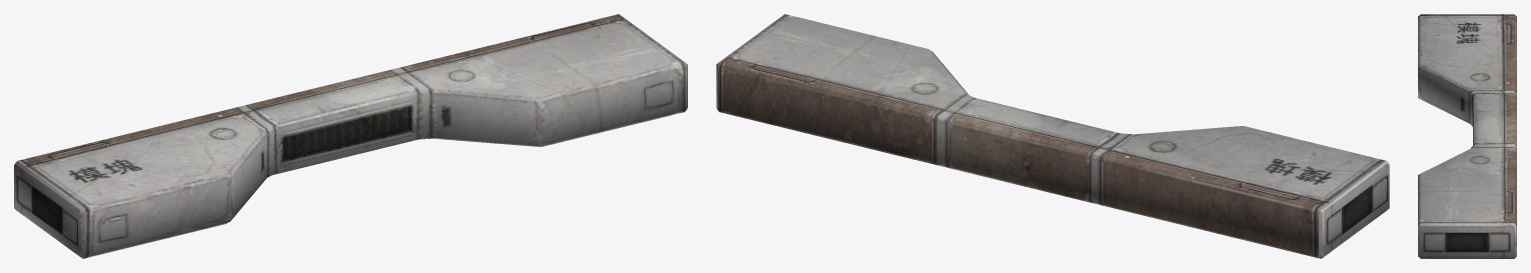
The model's file is junk_computer_part_01.dae.
The picture shows the model from 3 angles, left to right: view 1: azimuth 30°, elevation 25°; view 2: azimuth 150°, elevation 25°; view 3: azimuth 270°, elevation 25°; orthographic projection. The views are drawn at different scales.
Visible parts, largest first — view 1: junk_computer_part_01; view 2: junk_computer_part_01; view 3: junk_computer_part_01.
Boxes of the visible parts, <box> form: junk_computer_part_01: <box>14,14,687,258</box>; junk_computer_part_01: <box>716,14,1389,258</box>; junk_computer_part_01: <box>1418,14,1516,258</box>.
Bounding box in the file's own units: 0.7994 × 0.063 × 0.1579.
